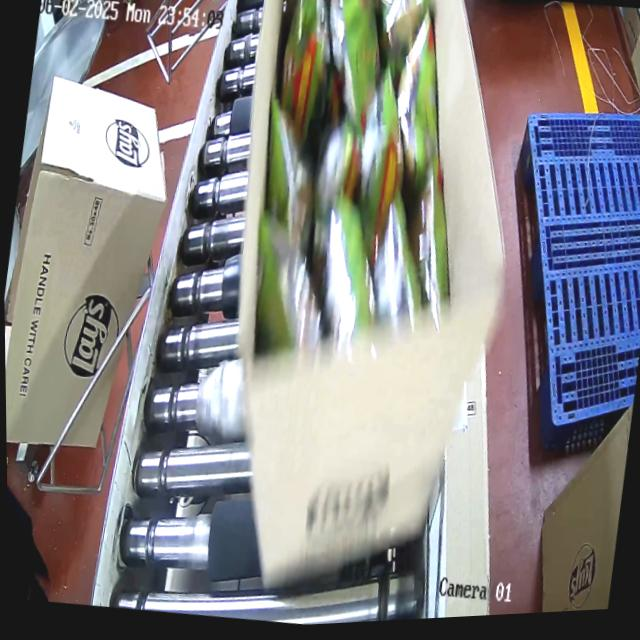YOGURT_HERB: (244, 0, 491, 380)
